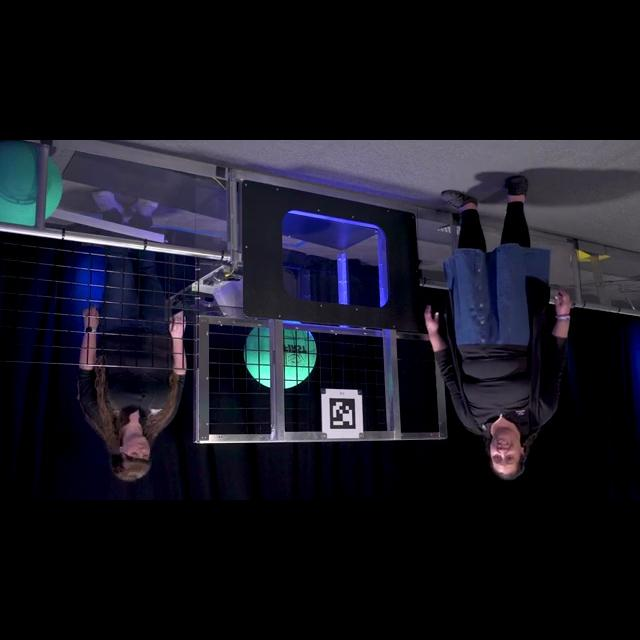ALGAE: (1, 142, 64, 228), (243, 326, 317, 389)
